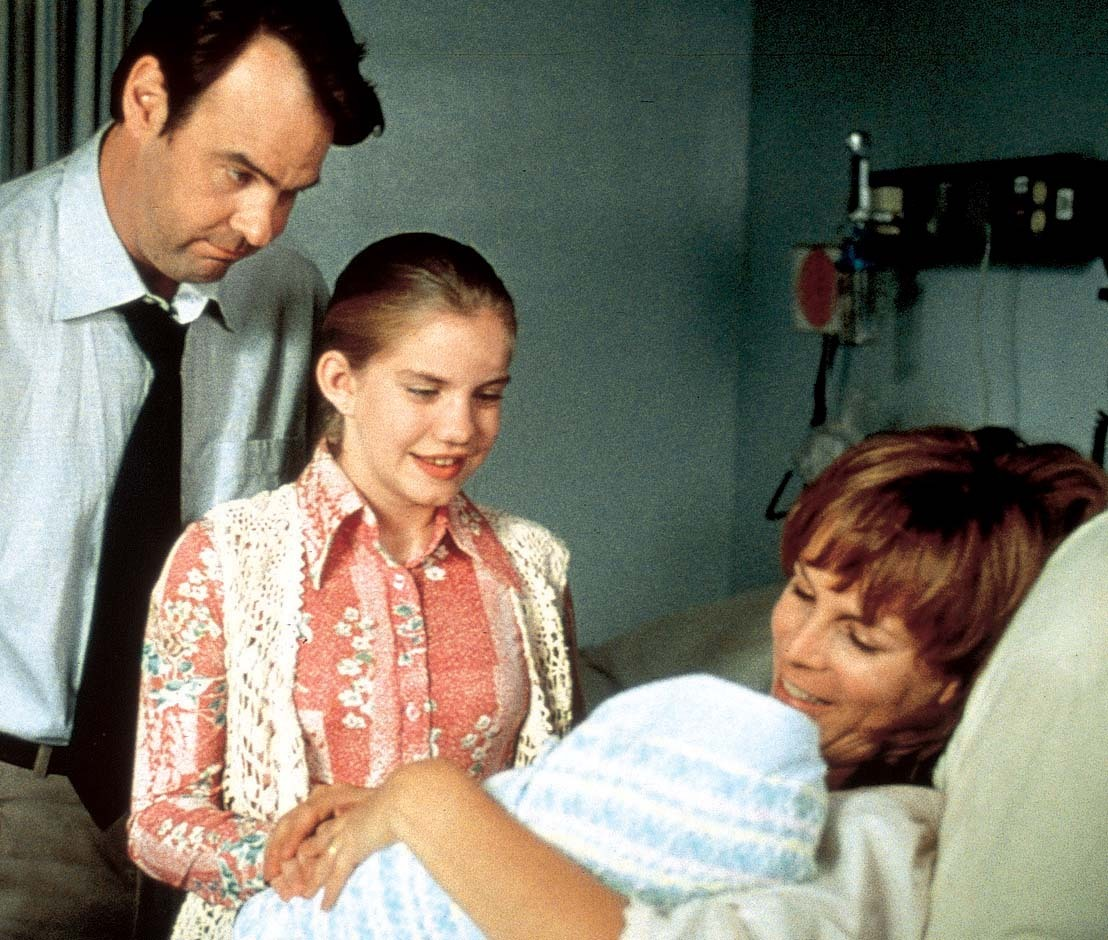16: (331, 271, 535, 538)
35: (740, 472, 974, 787)
45: (117, 30, 357, 314)
Belt: (1, 731, 70, 774)
Dress: (125, 435, 576, 940), (610, 778, 951, 940)
Female: (740, 472, 974, 787), (331, 271, 535, 538)
Male: (117, 30, 357, 314)
Pants: (1, 764, 184, 938)
Ring: (322, 834, 350, 860)
Shirt: (4, 107, 332, 744)
Tie: (67, 303, 189, 839)
